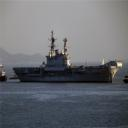Portanaves: (12, 29, 124, 85)
